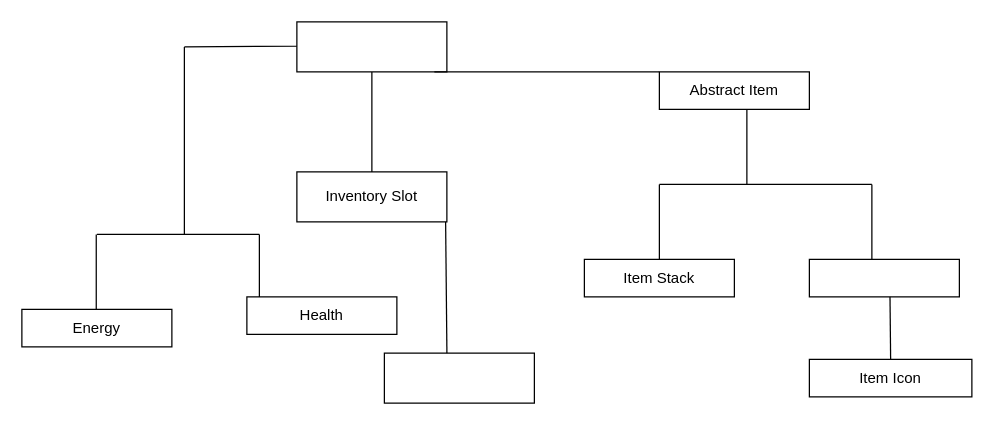
Image size: 994x425. Some labels were removed from this diagram. Here are the shapes that lost their labels. From the top down, the centre of each, then its label:
At (x=371, y=46): "Inventory".
At (x=883, y=277): "Item".
At (x=458, y=377): "Limited Space".
